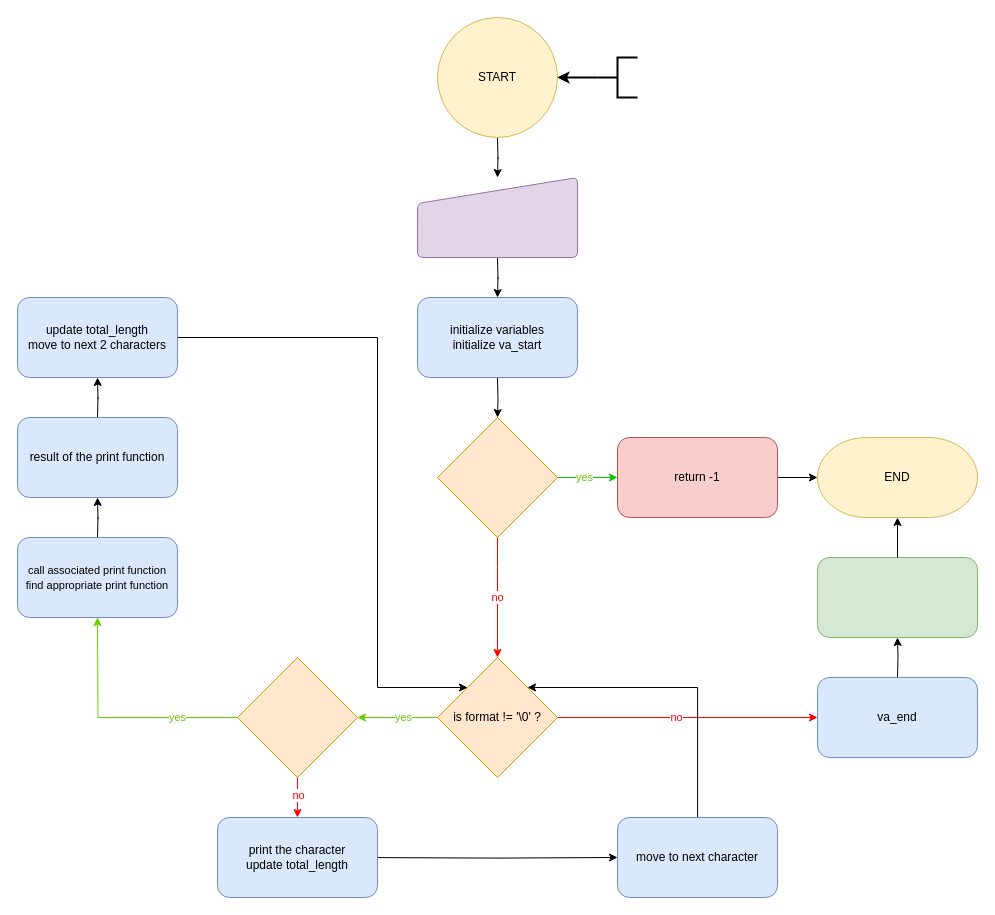
Some shapes in this 995 by 915 pixel diagram are drawn without their labels. Each missing label, with the box of its shape:
function init_print(const char *format, ...): (596, 56, 638, 98)
input, *format, ...: (416, 176, 578, 258)
is format == % ?: (236, 656, 358, 778)
is format NULL ?: (436, 416, 558, 538)
return total length: (816, 556, 978, 638)
